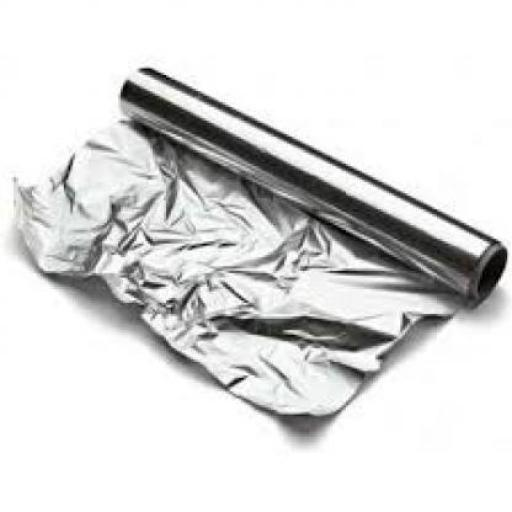metal: (12, 63, 505, 419)
